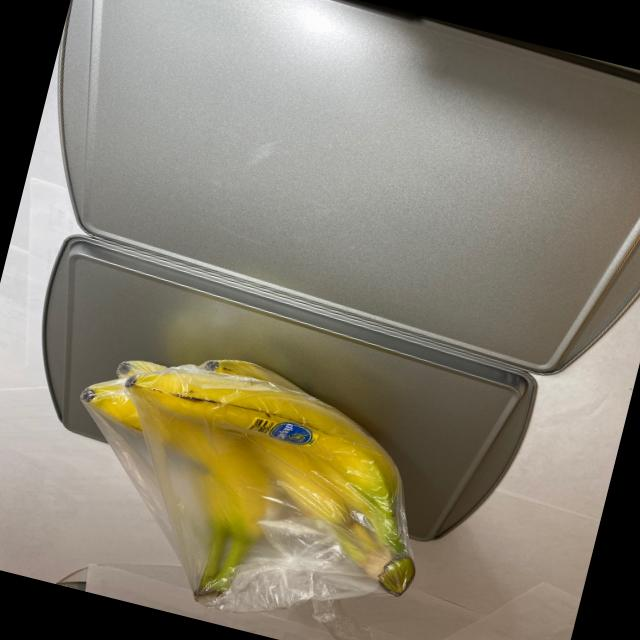banana: (37, 319, 482, 640)
